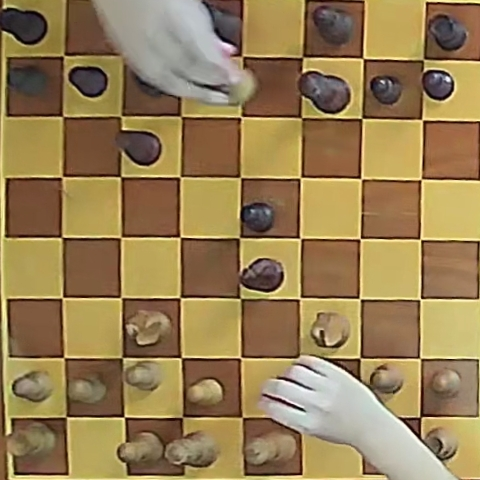black-bishop: (313, 5, 354, 45)
black-king: (299, 72, 350, 113)
black-knight: (116, 131, 160, 165), (240, 258, 283, 292)
black-pawn: (8, 65, 49, 97), (69, 66, 108, 97), (240, 202, 275, 232), (422, 70, 453, 100), (370, 75, 401, 104)
black-rook: (1, 7, 47, 46), (428, 14, 468, 51)
white-bishop: (118, 431, 164, 464)
white-king: (246, 431, 297, 465)
white-knight: (125, 310, 170, 346), (310, 312, 349, 348)
white-pawn: (12, 370, 53, 402), (69, 373, 107, 404), (125, 360, 162, 391), (370, 363, 404, 395), (186, 378, 223, 406), (430, 368, 461, 397)
white-queen: (164, 430, 219, 467)
white-rook: (9, 422, 56, 457), (425, 427, 459, 462)
